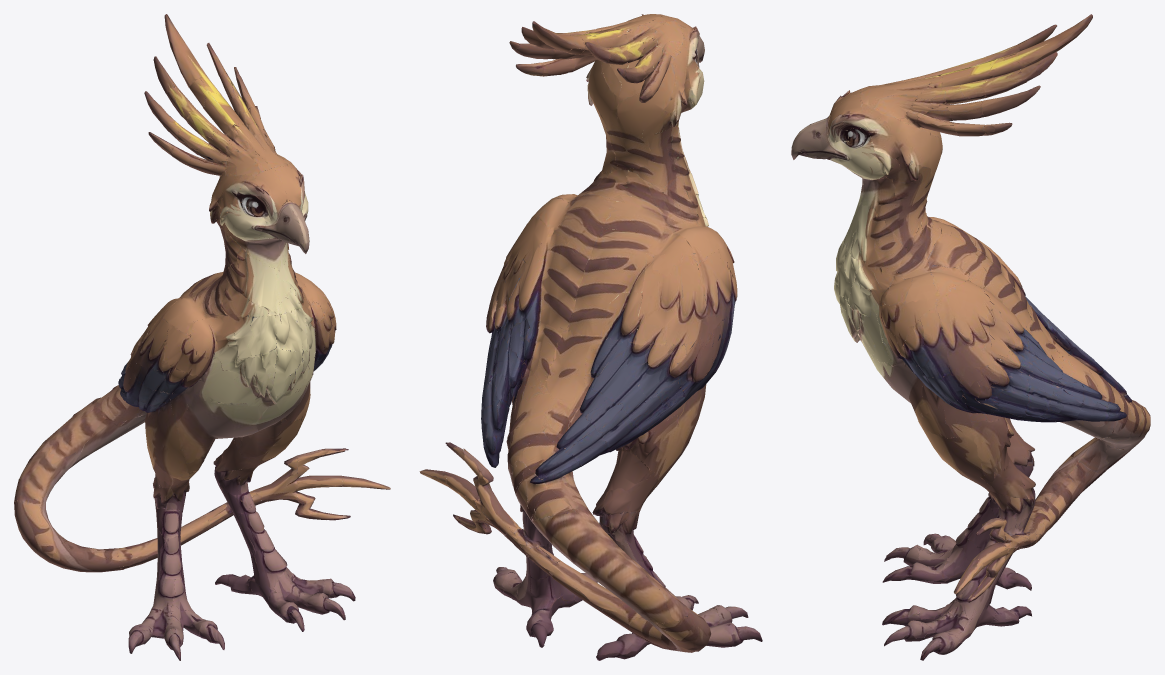
The picture shows the model from 3 angles, left to right: view 1: azimuth 30°, elevation 25°; view 2: azimuth 150°, elevation 25°; view 3: azimuth 270°, elevation 25°; orthographic projection. The views are drawn at different scales.
Visible parts, largest first — view 1: Mesh_0; view 2: Mesh_0; view 3: Mesh_0.
Part boxes in pixels (<box>): Mesh_0: <box>14,14,390,660</box>; Mesh_0: <box>419,14,762,660</box>; Mesh_0: <box>791,14,1150,660</box>.
Size of the model in its own units: 1.09 by 1.9 by 1.05.
Materials: 1 (1 with a texture image).
